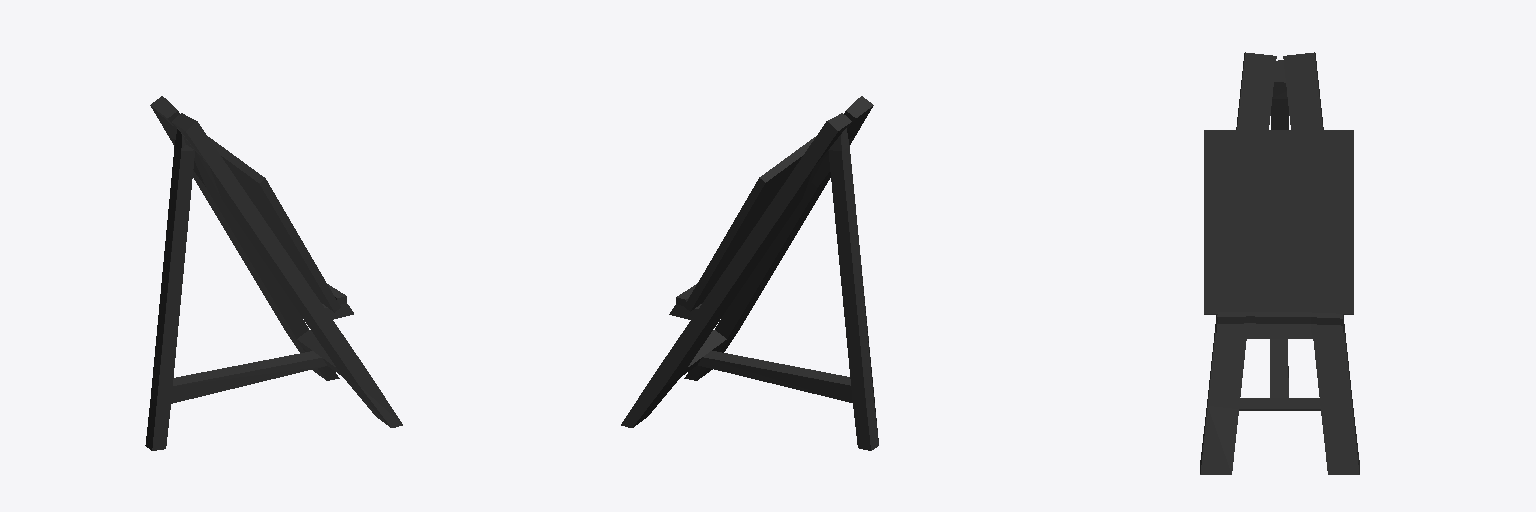
Rendered from EaselHolder.obj.
The picture shows the model from 3 angles: view 1: azimuth 30°, elevation 25°; view 2: azimuth 150°, elevation 25°; view 3: azimuth 270°, elevation 25°; orthographic projection.
Parts seen in each view (by area): view 1: Cube; view 2: Cube; view 3: Cube.
Part boxes in pixels (x1,y1,x2,y2): Cube: (145, 96, 402, 450); Cube: (621, 96, 878, 450); Cube: (1200, 52, 1359, 474).
Bounding box in the file's own units: 1.56 × 2.31 × 1.01.